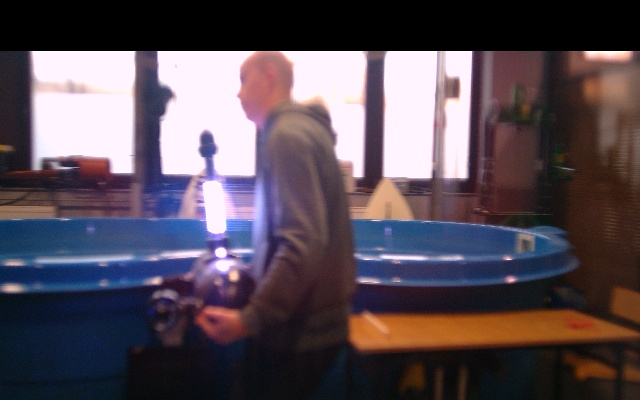white: (202, 180, 226, 235)
